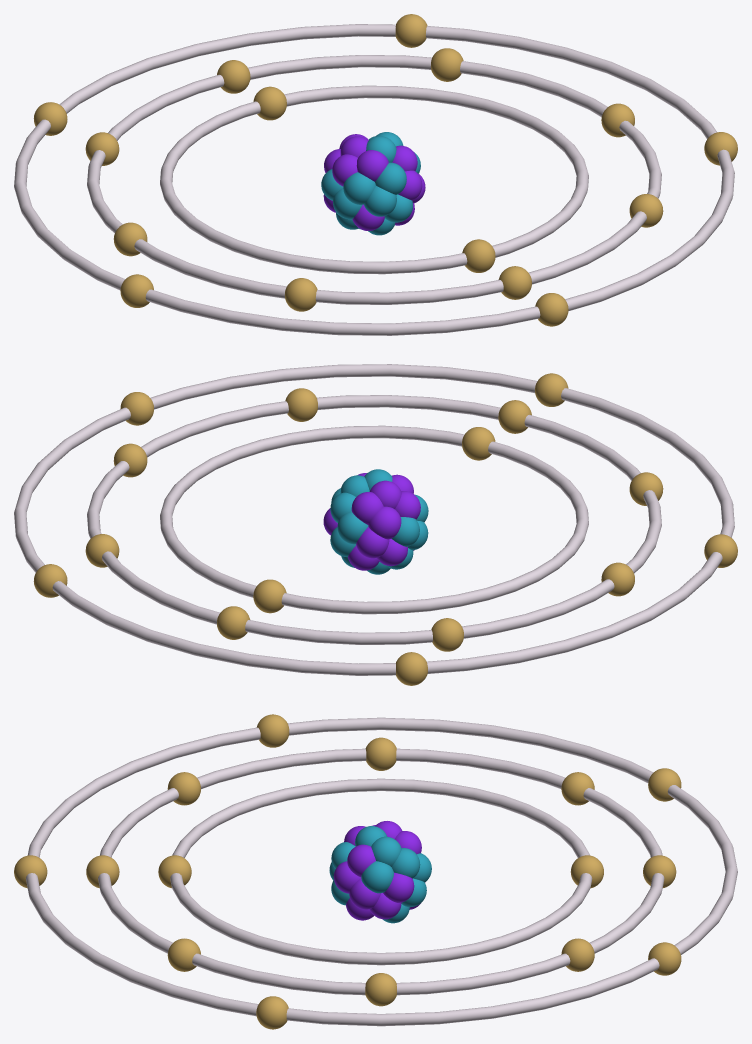
The model's file is fosforo.glb.
3 views of the same model, one above another, from view 1: azimuth 30°, elevation 25°; view 2: azimuth 150°, elevation 25°; view 3: azimuth 270°, elevation 25° (orthographic).
Parts seen in each view (by area): view 1: Orbita_3, Orbita_2, Orbita_1, Nucleo_Completo, Eletron_C2_8, Eletron_C3_3, Eletron_C2_4, Eletron_C3_1, Eletron_1, Eletron_C2_1, Eletron_2, Eletron_C2_5 (+7 smaller); view 2: Orbita_3, Orbita_2, Orbita_1, Nucleo_Completo, Eletron_C3_4, Eletron_C2_6, Eletron_C2_2, Eletron_2, Eletron_C2_5, Eletron_C3_1, Eletron_1, Eletron_C2_1 (+7 smaller); view 3: Orbita_3, Orbita_2, Orbita_1, Nucleo_Completo, Eletron_C2_3, Eletron_C3_2, Eletron_C2_7, Eletron_C3_5, Eletron_C2_2, Eletron_C2_4, Eletron_C2_8, Eletron_C2_6 (+7 smaller).
Part boxes in pixels (x1=…): Orbita_3: x1=14, y1=24, x2=734, y2=335; Orbita_2: x1=87, y1=55, x2=661, y2=304; Orbita_1: x1=160, y1=85, x2=588, y2=274; Nucleo_Completo: x1=321, y1=132, x2=425, y2=235; Eletron_C2_8: x1=284, y1=278, x2=317, y2=311; Eletron_C3_3: x1=395, y1=14, x2=427, y2=47; Eletron_C2_4: x1=430, y1=48, x2=463, y2=81; Eletron_C3_1: x1=535, y1=293, x2=568, y2=326; Eletron_1: x1=462, y1=239, x2=495, y2=272; Eletron_C2_1: x1=498, y1=266, x2=531, y2=299; Eletron_2: x1=253, y1=86, x2=286, y2=120; Eletron_C2_5: x1=217, y1=60, x2=250, y2=93; Orbita_3: x1=14, y1=364, x2=734, y2=675; Orbita_2: x1=87, y1=395, x2=661, y2=644; Orbita_1: x1=160, y1=425, x2=588, y2=614; Nucleo_Completo: x1=323, y1=469, x2=428, y2=574; Eletron_C3_4: x1=396, y1=652, x2=427, y2=685; Eletron_C2_6: x1=431, y1=618, x2=463, y2=651; Eletron_C2_2: x1=285, y1=388, x2=317, y2=421; Eletron_2: x1=253, y1=579, x2=286, y2=613; Eletron_C2_5: x1=217, y1=606, x2=250, y2=639; Eletron_C3_1: x1=535, y1=373, x2=568, y2=406; Eletron_1: x1=462, y1=427, x2=495, y2=460; Eletron_C2_1: x1=498, y1=400, x2=531, y2=433; Orbita_3: x1=26, y1=717, x2=737, y2=1026; Orbita_2: x1=98, y1=748, x2=664, y2=995; Orbita_1: x1=170, y1=778, x2=592, y2=965; Nucleo_Completo: x1=329, y1=821, x2=431, y2=923; Eletron_C2_3: x1=365, y1=973, x2=396, y2=1006; Eletron_C3_2: x1=256, y1=996, x2=288, y2=1029; Eletron_C2_7: x1=365, y1=737, x2=396, y2=770; Eletron_C3_5: x1=256, y1=714, x2=289, y2=747; Eletron_C2_2: x1=167, y1=938, x2=200, y2=971; Eletron_C2_4: x1=561, y1=938, x2=594, y2=971; Eletron_C2_8: x1=167, y1=772, x2=200, y2=805; Eletron_C2_6: x1=561, y1=772, x2=594, y2=805.
Bounding box in the file's own units: 3.46 × 0.5007 × 3.51.
